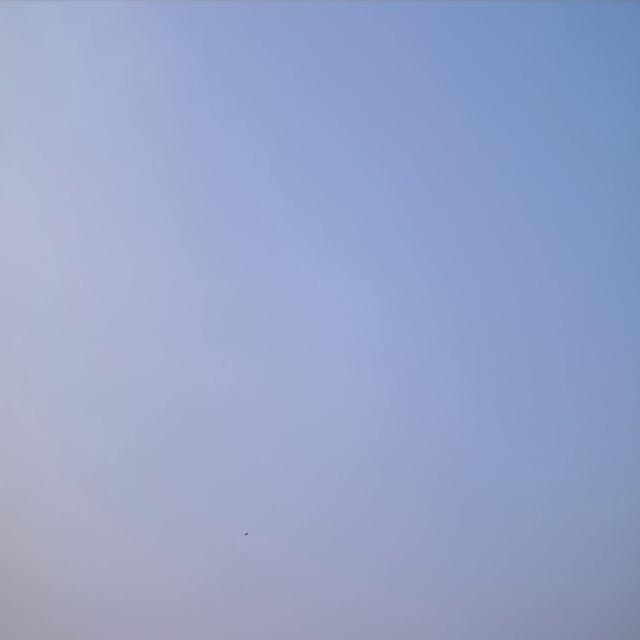UAV: (244, 532, 248, 536)
